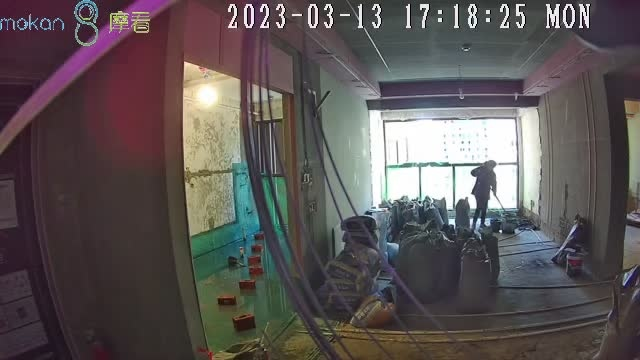people: (471, 161, 498, 231)
window: (382, 117, 519, 212)
